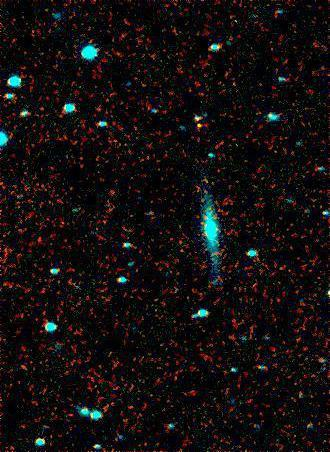star: (184, 112, 214, 142)
